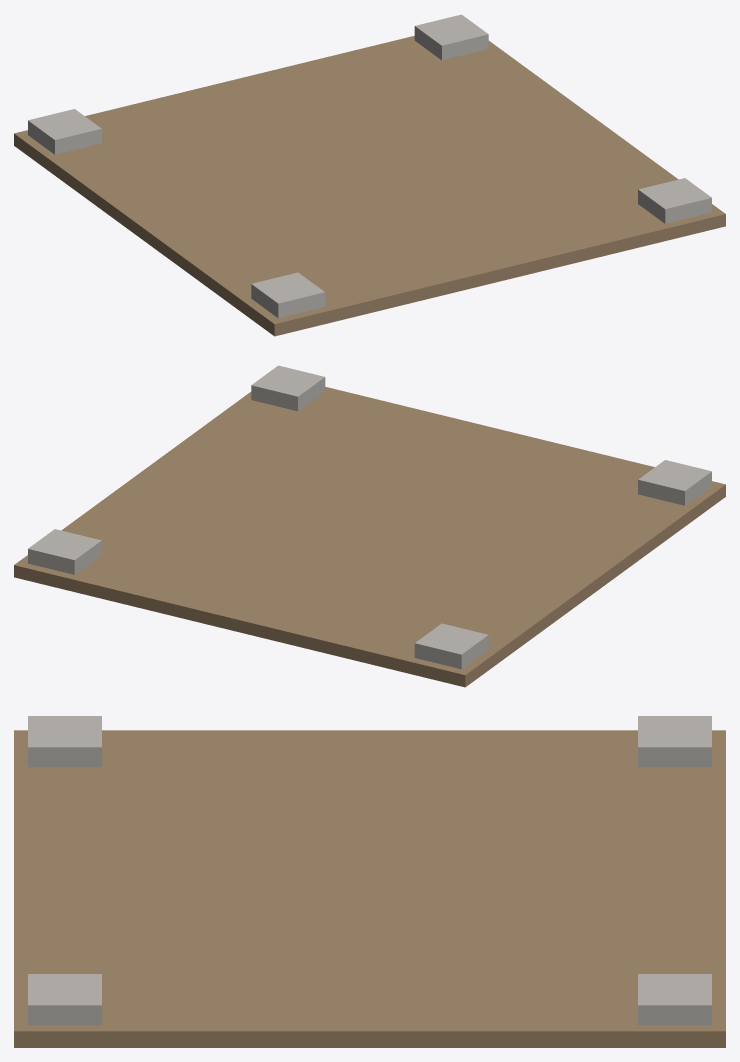
Rendered from building_shrine_foundation.glb.
3 renders of one model, top to bottom at view 1: azimuth 30°, elevation 25°; view 2: azimuth 150°, elevation 25°; view 3: azimuth 270°, elevation 25°, orthographic. The views are drawn at different scales.
Visible parts, largest first — view 1: building_shrine_foundation; view 2: building_shrine_foundation; view 3: building_shrine_foundation.
Part boxes in pixels (<box>): building_shrine_foundation: <box>14,14,725,336</box>; building_shrine_foundation: <box>14,365,725,687</box>; building_shrine_foundation: <box>14,716,725,1047</box>.
Size of the model in its own units: 3.85 by 0.22 by 3.85.
